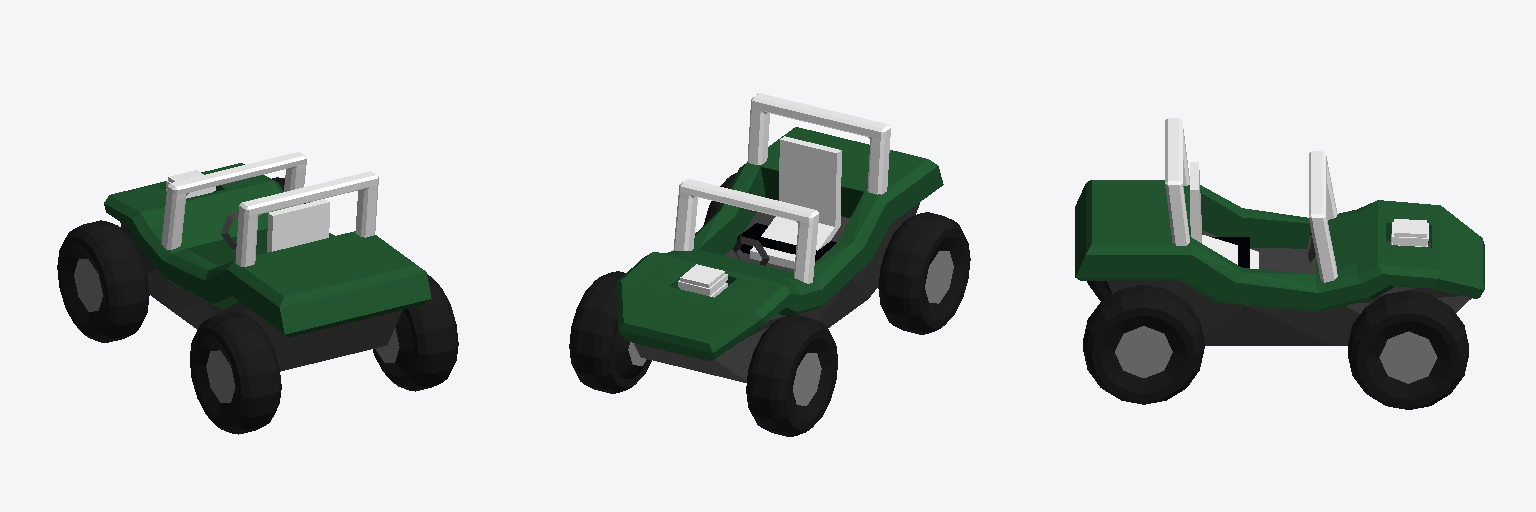
The picture shows the model from 3 angles: view 1: azimuth 30°, elevation 25°; view 2: azimuth 150°, elevation 25°; view 3: azimuth 270°, elevation 25°; orthographic projection.
Parts seen in each view (by area): view 1: Topshellmaterial0031, Tiresmaterial0021, Framesmaterial0161, Basematerial0011, Seatmaterial0041; view 2: Topshellmaterial0031, Tiresmaterial0021, Framesmaterial0161, Seatmaterial0041, Basematerial0011, Enginethingmaterial0131, Vehicleseat1; view 3: Topshellmaterial0031, Tiresmaterial0021, Basematerial0011, Framesmaterial0161, Seatmaterial0041, Enginethingmaterial0131.
Part boxes in pixels (x1,y1,x2,y2): Topshellmaterial0031: (104, 163, 431, 337); Tiresmaterial0021: (57, 177, 458, 434); Framesmaterial0161: (161, 152, 378, 266); Basematerial0011: (120, 222, 402, 371); Seatmaterial0041: (267, 199, 329, 252); Topshellmaterial0031: (616, 127, 943, 361); Tiresmaterial0021: (569, 173, 970, 436); Framesmaterial0161: (673, 93, 890, 283); Seatmaterial0041: (750, 136, 841, 268); Basematerial0011: (634, 203, 919, 382); Enginethingmaterial0131: (678, 264, 727, 297); Vehicleseat1: (737, 223, 836, 261); Topshellmaterial0031: (1075, 180, 1484, 311); Tiresmaterial0021: (1083, 281, 1468, 409); Basematerial0011: (1107, 230, 1471, 345); Framesmaterial0161: (1165, 118, 1337, 282); Seatmaterial0041: (1190, 162, 1258, 268); Enginethingmaterial0131: (1391, 219, 1428, 246).
Bounding box in the file's own units: 6.99 × 6.54 × 11.41.
Materials: 8 (4 with a texture image).